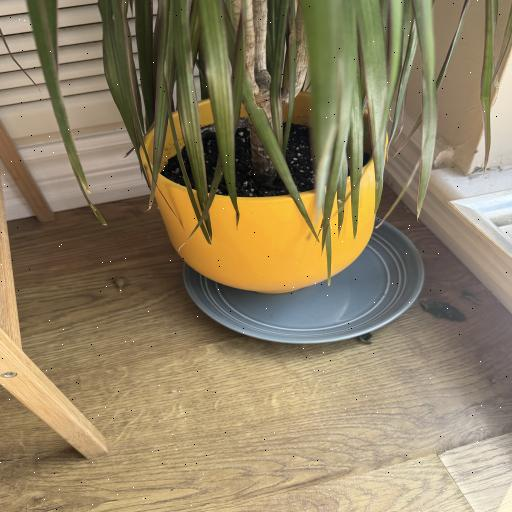Plant Pot: (140, 83, 390, 294)
